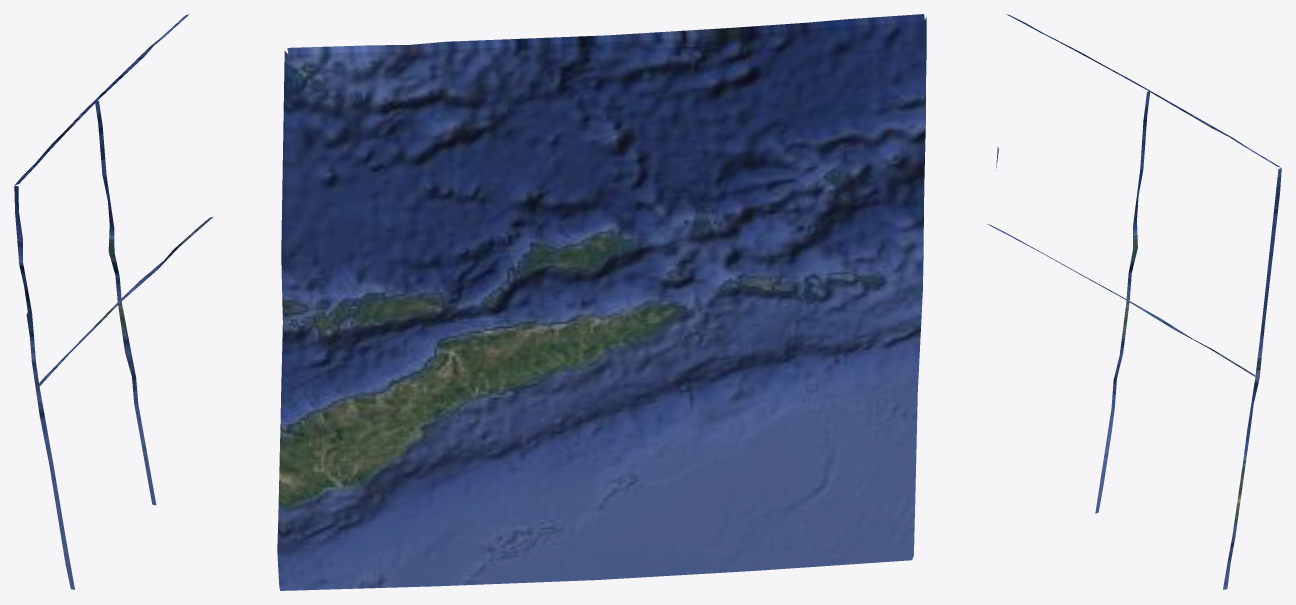
The picture shows the model from 3 angles, left to right: view 1: azimuth 30°, elevation 25°; view 2: azimuth 150°, elevation 25°; view 3: azimuth 270°, elevation 25°; orthographic projection. The views are drawn at different scales.
Size of the model in its own units: 554495 by 624519 by 450991.
1 material, 1 textured.
